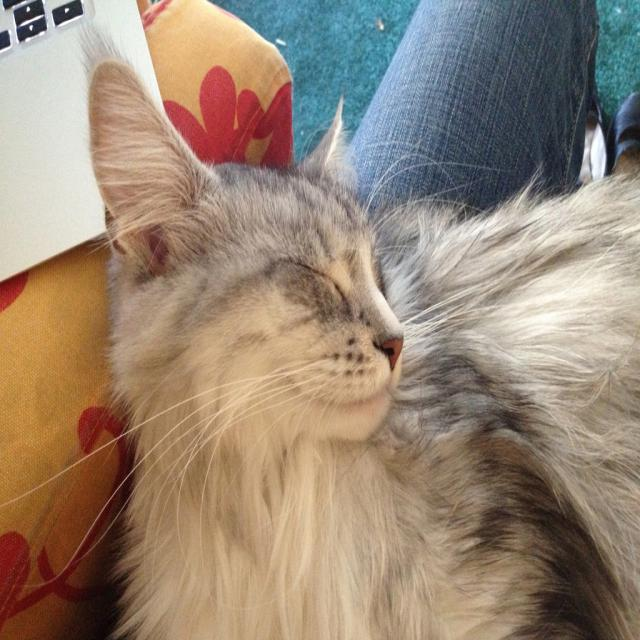Cat: (0, 57, 638, 638)
